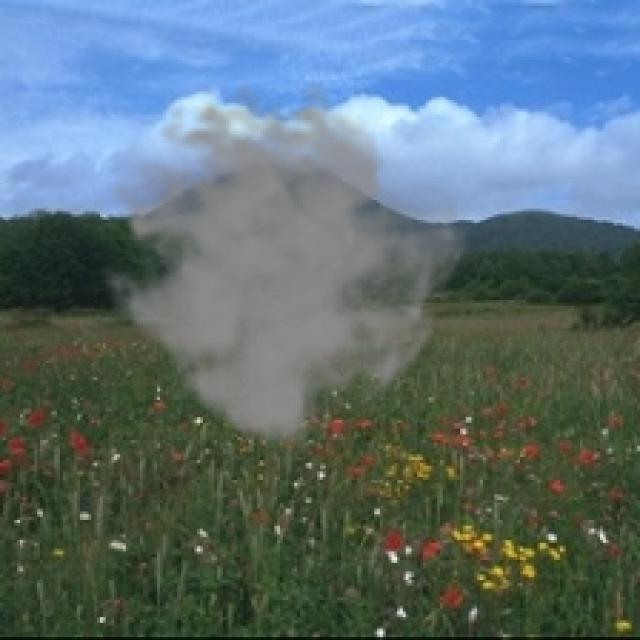Smoke: (88, 80, 474, 452)
